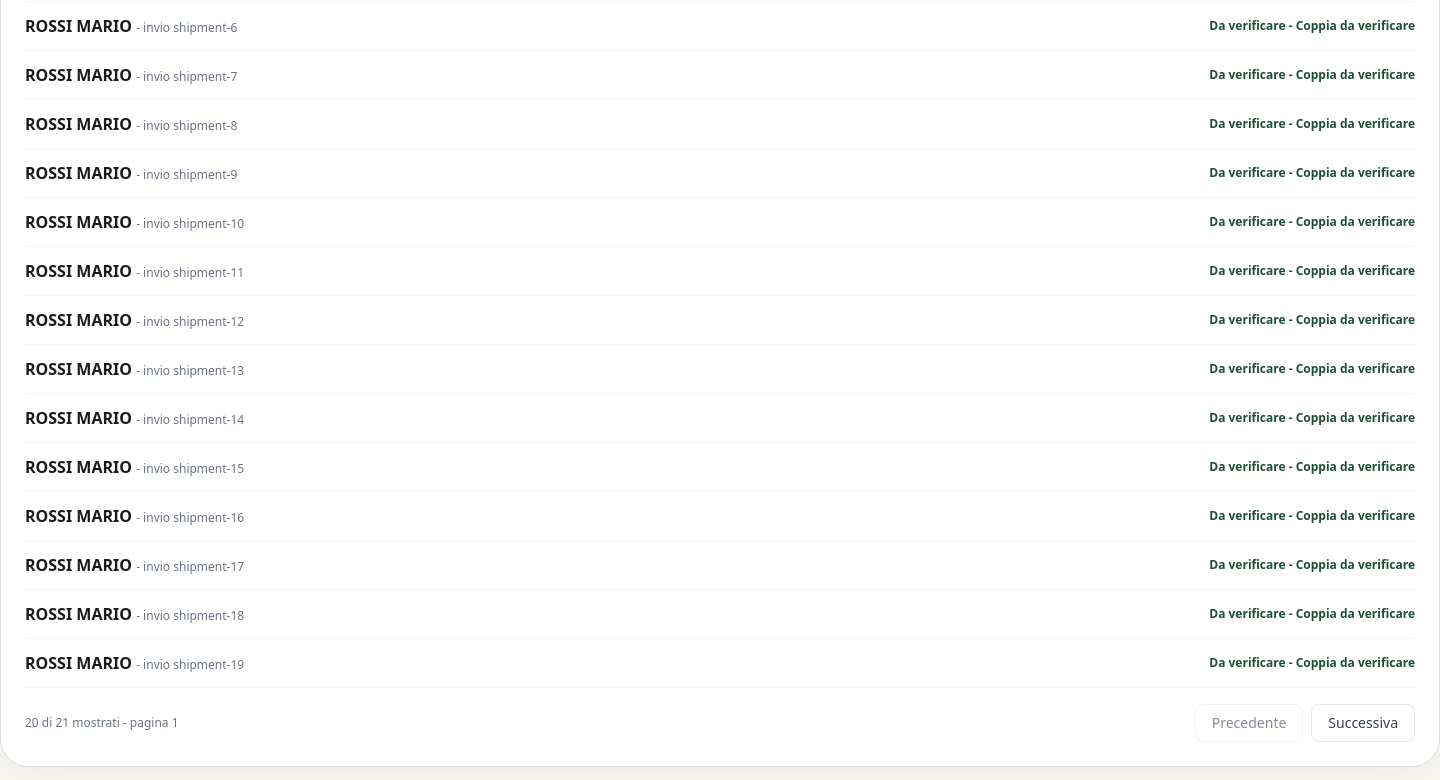
Test case: RegisteredMailReconciliation › filters and pages the review queue without selecting an association
(page scrolled)
Expected: the text "20 di 21 mostrati - pagina 1" is shown, [25,715,179,731]
Click the button "Successiva": (1363, 723) [1311,704,1415,742]
(page scrolled)
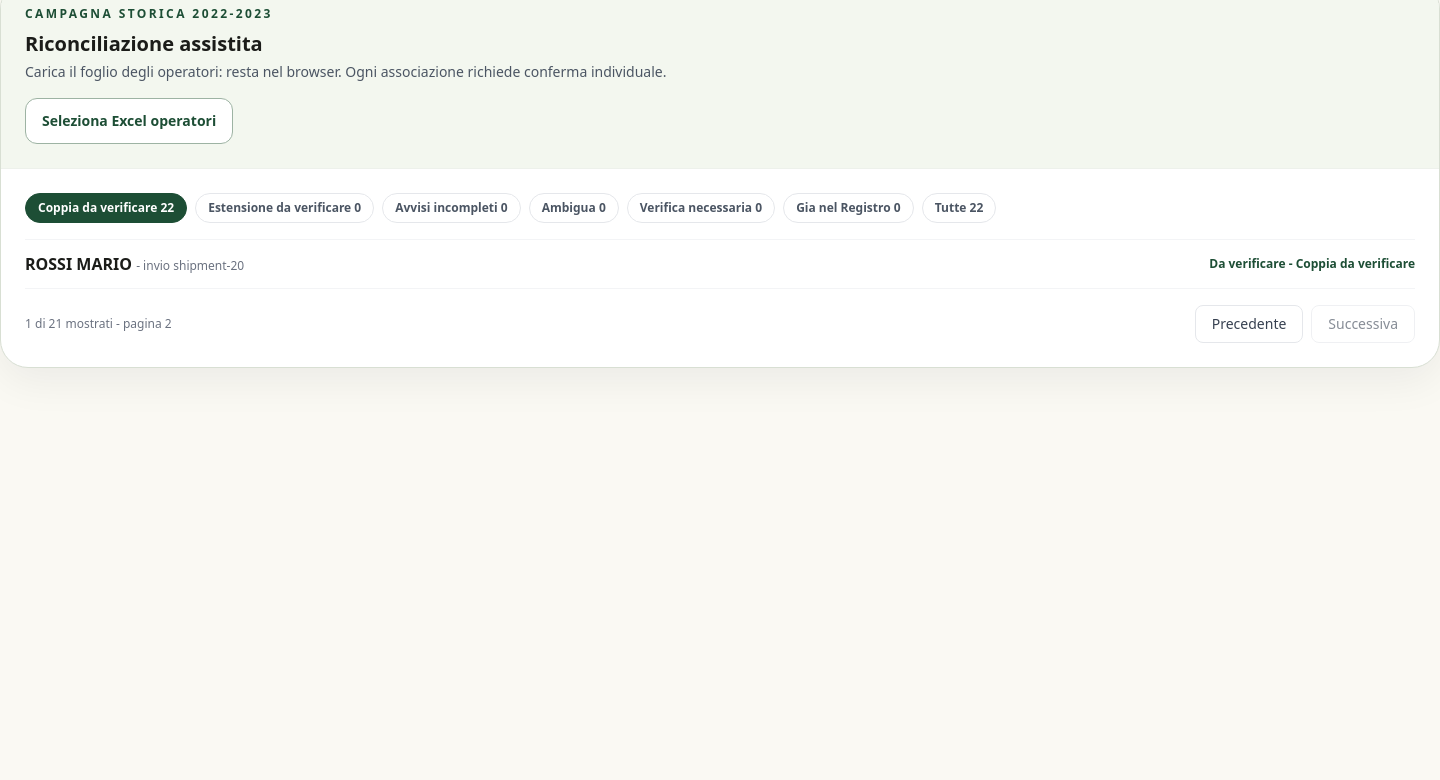
Now the text "1 di 21 mostrati - pagina 2" is shown, box [25,316,172,332]
Click the button "Precedente": (1249, 324) [1195,305,1303,343]
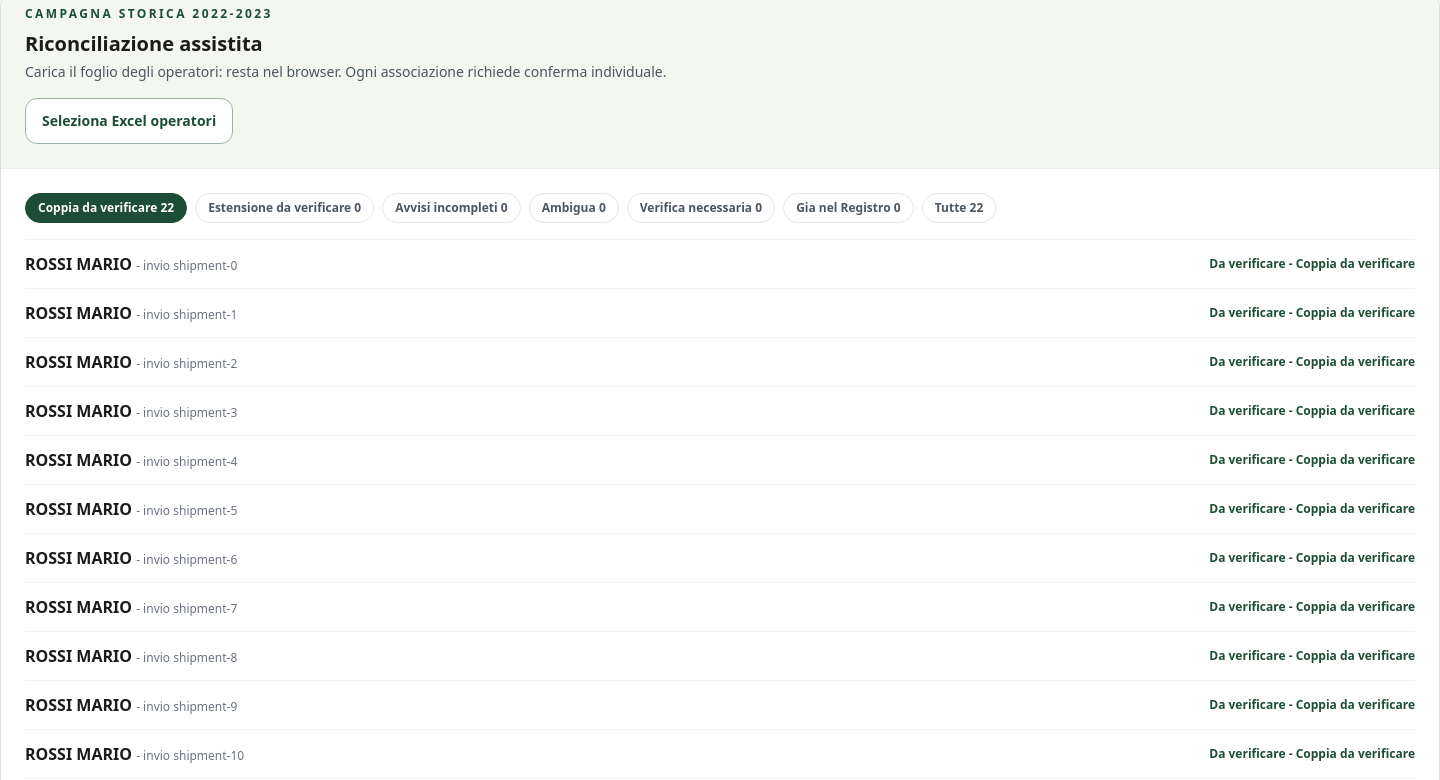
Click the button "Tutte 22": (959, 208) [922,193,996,223]
(page scrolled)
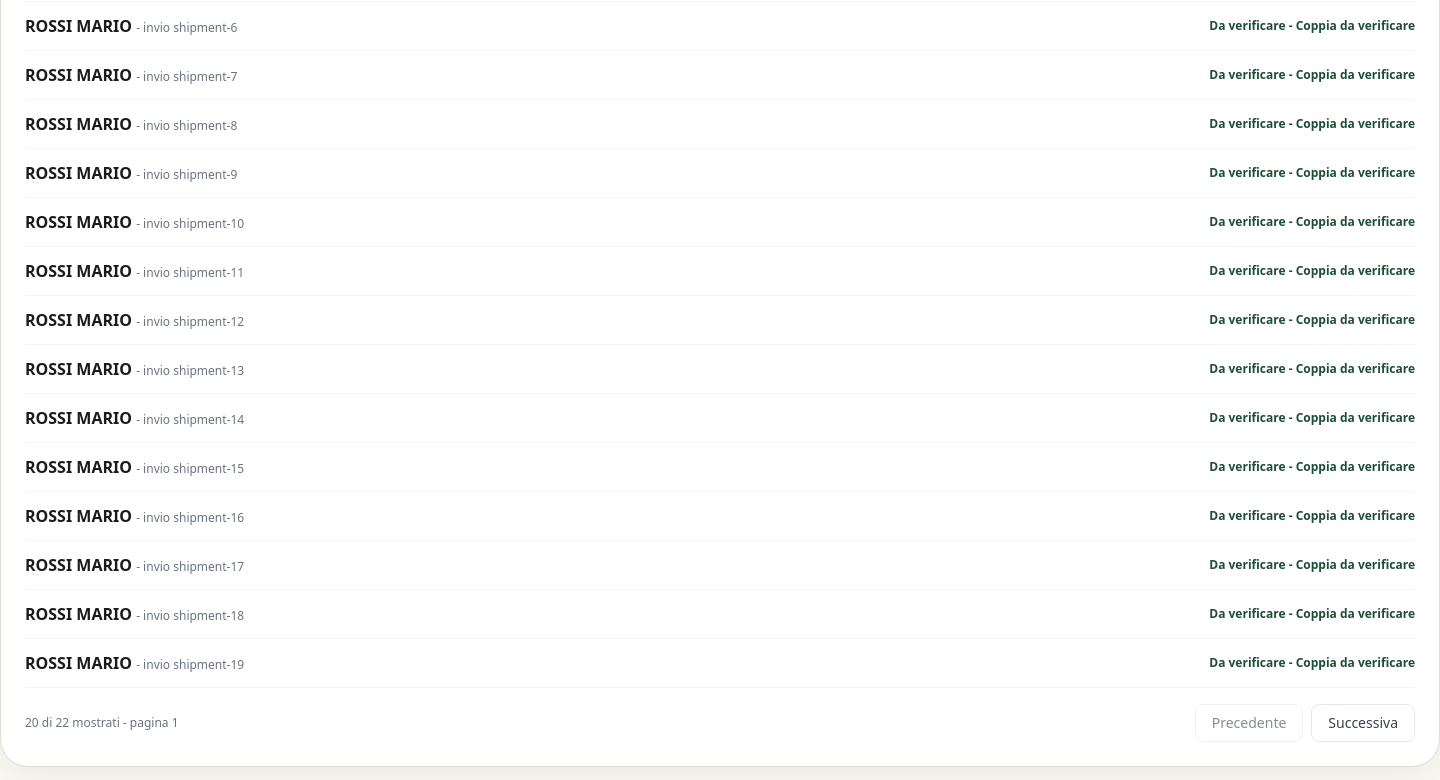
Now the text "20 di 22 mostrati - pagina 1" is shown, box [25,715,179,731]
Click the button "Successiva": (1363, 723) [1311,704,1415,742]
(page scrolled)
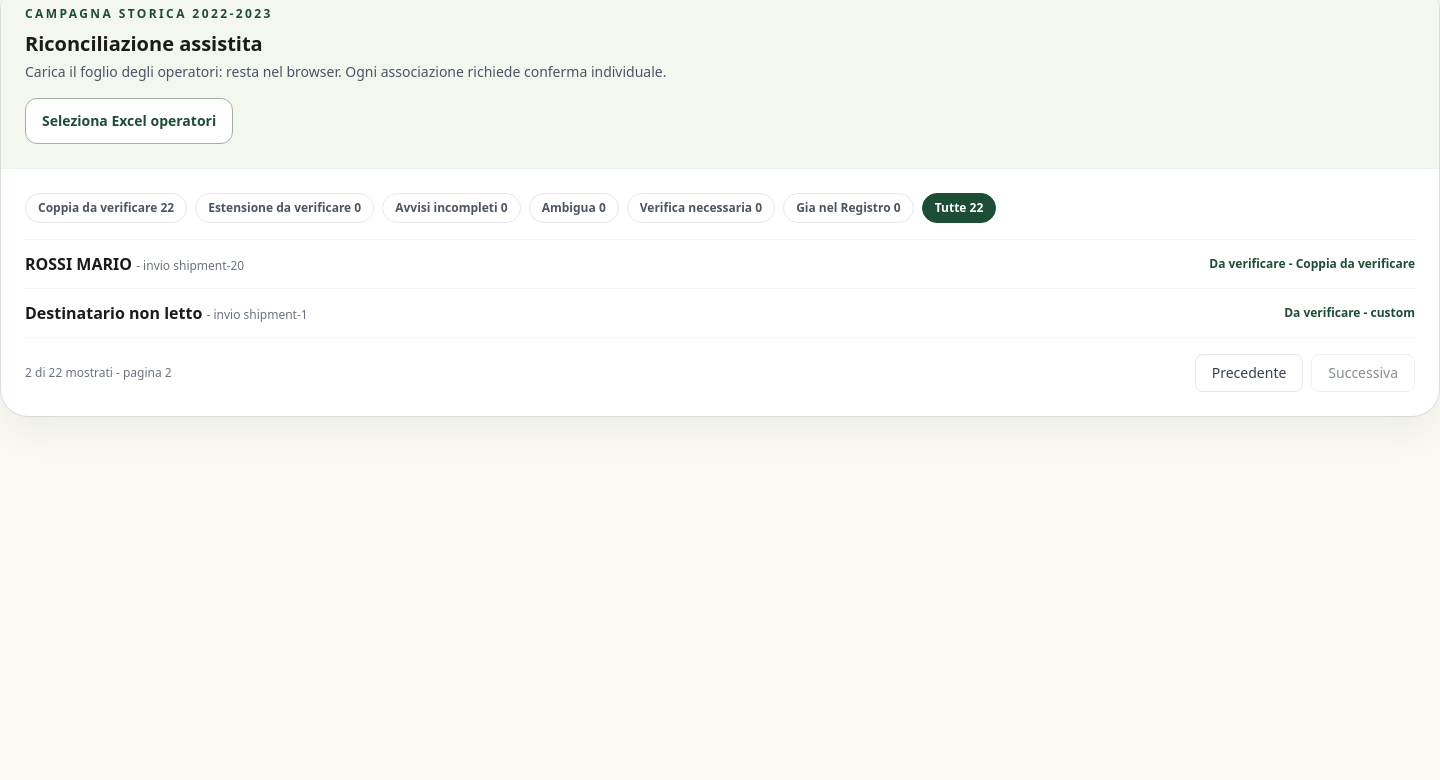
Click the button "Destinatario non letto": (114, 313) [25,289,1415,337]
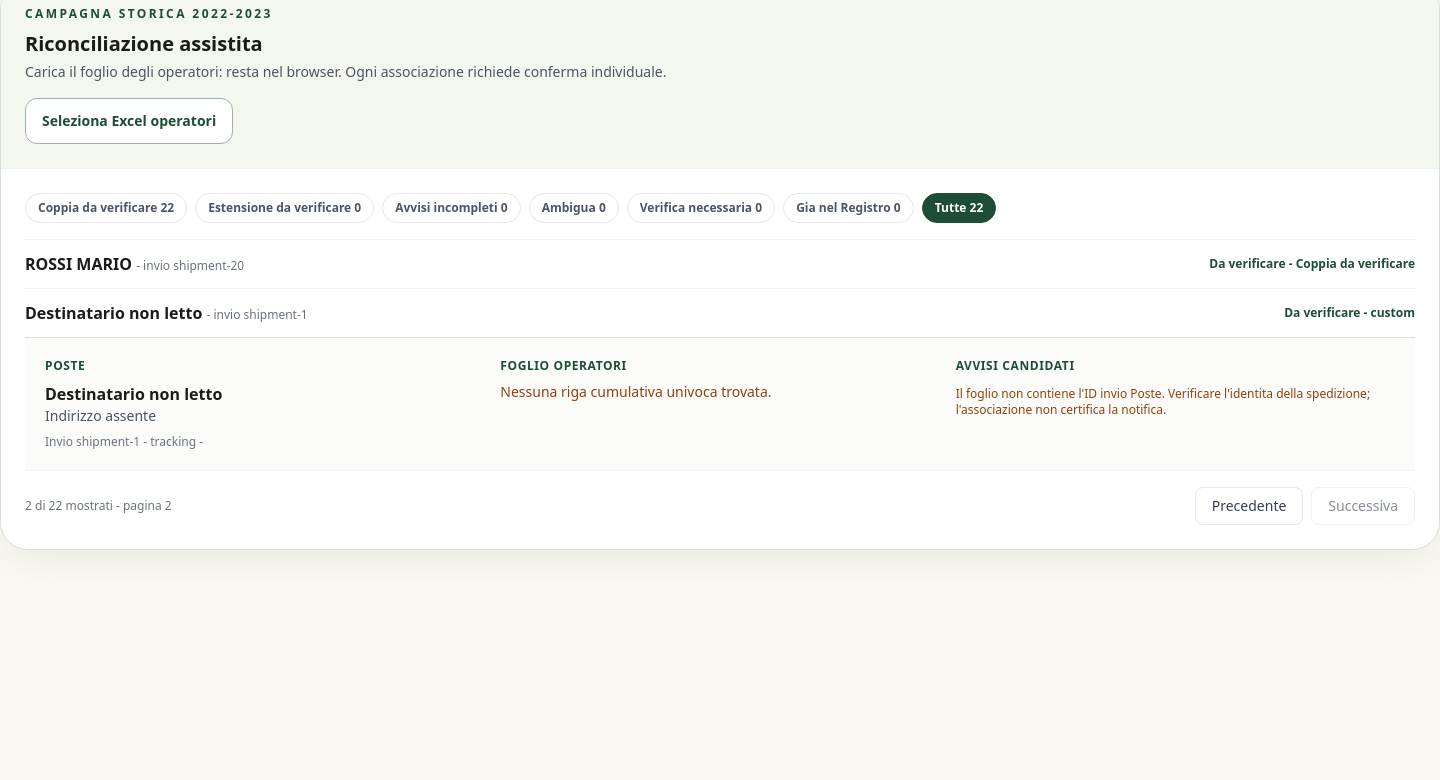
Now the text "Da verificare - custom" is shown, box [1284,305,1415,321]
Now the text "Indirizzo assente" is shown, box [45,406,156,425]
Now the text "Nessuna riga cumulativa univoca trovata." is shown, box [500,382,772,401]
